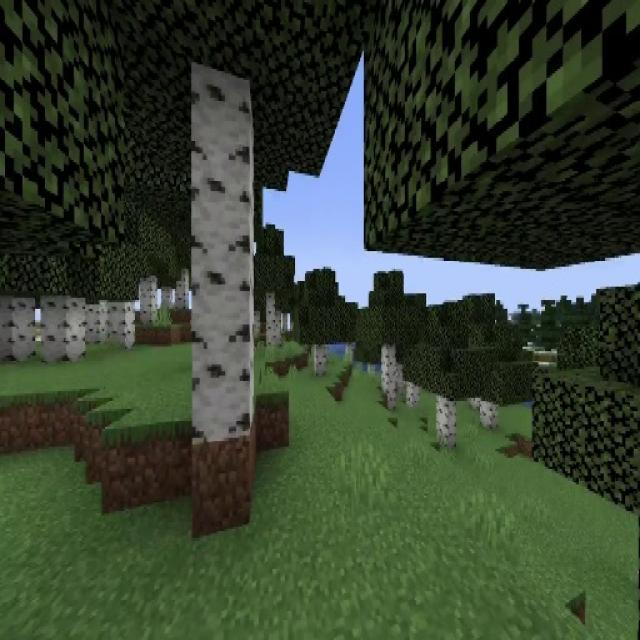birch: (420, 306, 480, 448), (358, 273, 417, 407), (297, 267, 350, 375), (254, 229, 297, 349)
birch_log: (193, 64, 253, 438), (41, 296, 86, 357), (0, 299, 35, 363), (109, 303, 134, 344), (383, 346, 396, 407), (140, 278, 156, 327), (438, 396, 454, 444), (87, 304, 106, 341), (266, 293, 276, 348), (175, 272, 188, 309), (482, 400, 496, 426), (315, 345, 326, 373), (409, 382, 419, 404), (162, 286, 171, 308)
spruce: (535, 300, 561, 351)
